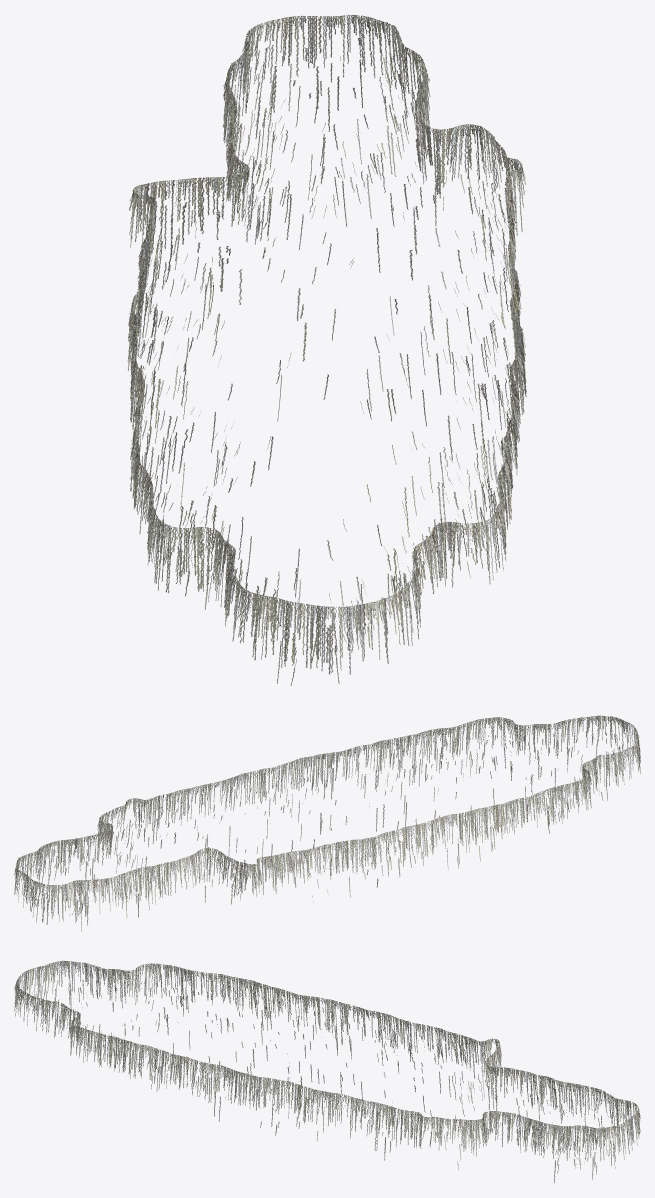
Rendered from SM_H13_Vines.fbx.
3 renders of one model, top to bottom at view 1: azimuth 30°, elevation 25°; view 2: azimuth 150°, elevation 25°; view 3: azimuth 270°, elevation 25°, orthographic. The views are drawn at different scales.
Parts seen in each view (by area): view 1: SM_H13_Vines; view 2: SM_H13_Vines; view 3: SM_H13_Vines.
Part boxes in pixels (x1,y1,x2,y2): SM_H13_Vines: (127,14,526,685); SM_H13_Vines: (14,715,640,931); SM_H13_Vines: (14,960,640,1182).
Bounding box in the file's own units: 320 × 89.49 × 499.
